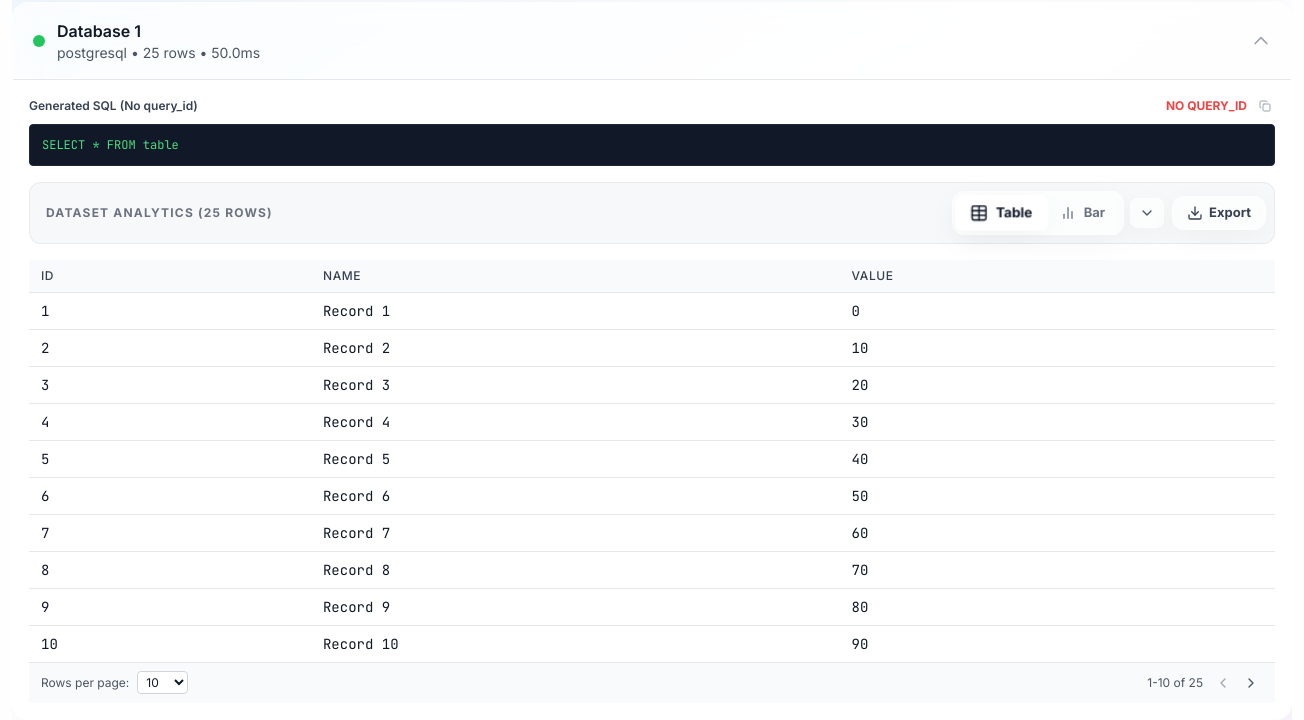
Test case: MultiDatabaseResults › Pagination › can change page size
The image size is (1304, 720).
(page scrolled)
// Change to 25 rows per page
Select "25" in the dropdown: [163, 682] box [137,671,188,694]
(page scrolled)
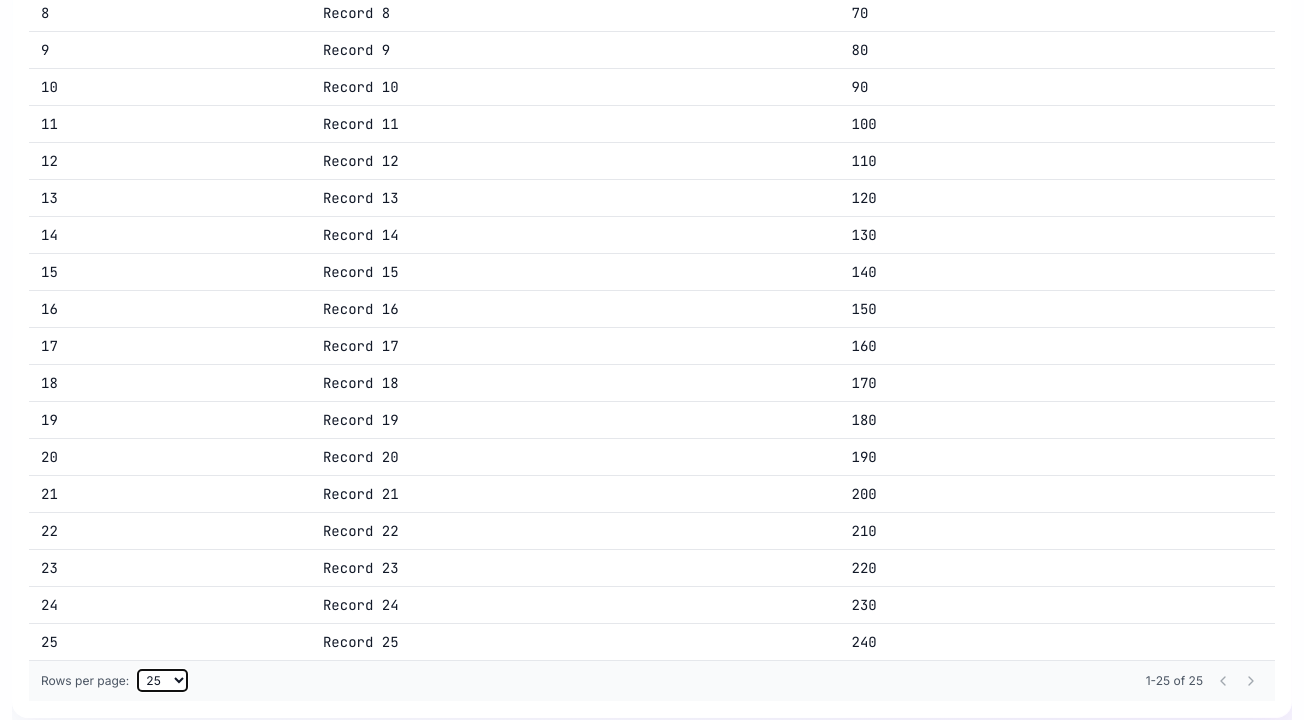
expect the text "Record 25" is shown: met, box [311,623,840,660]
expect the text "1-25 of 25" is shown: met, box [1146,672,1203,688]
